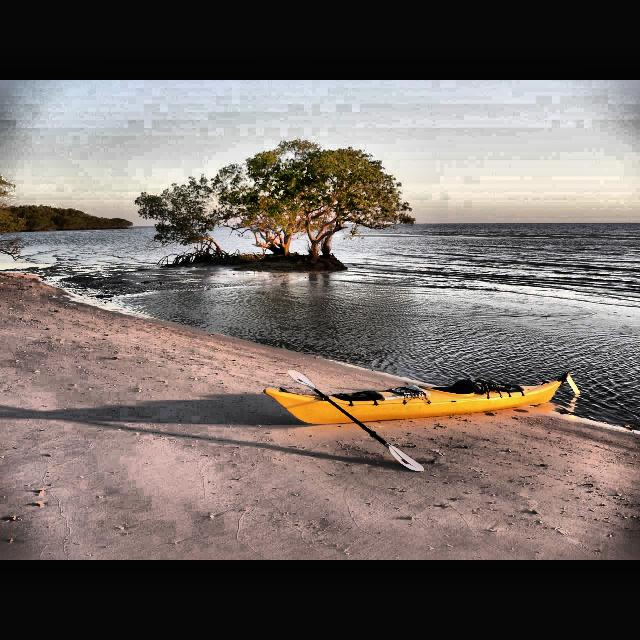kayak: (264, 370, 570, 426)
